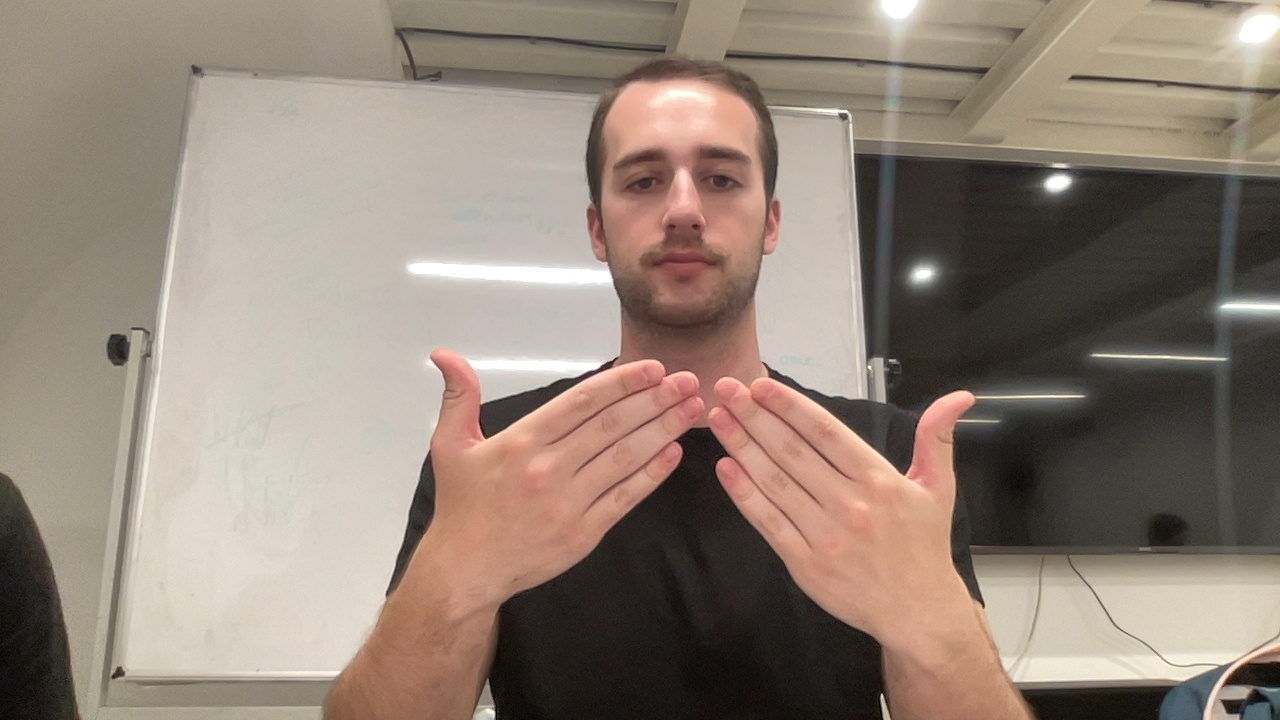Thank You: (416, 346, 989, 647)
